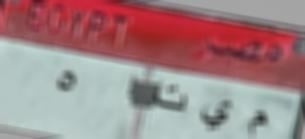5: (50, 64, 84, 98)
meem: (246, 100, 268, 139)
thaa: (150, 76, 189, 124)
yaa: (199, 91, 232, 138)
